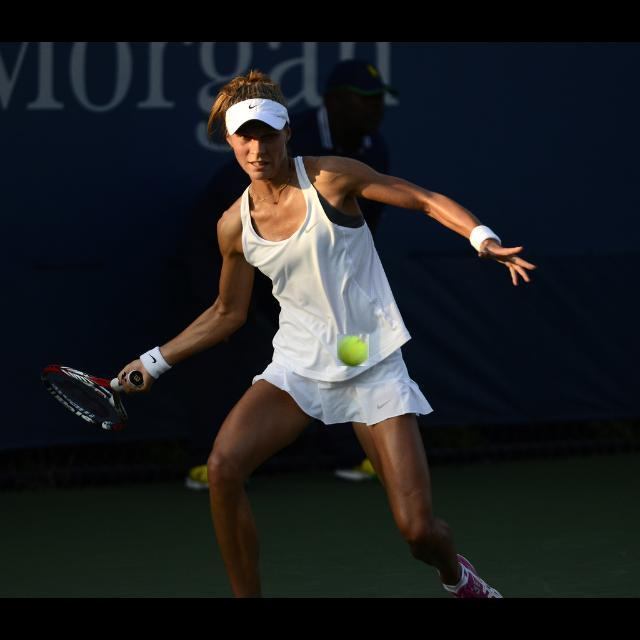tennis ball: (337, 334, 369, 366)
